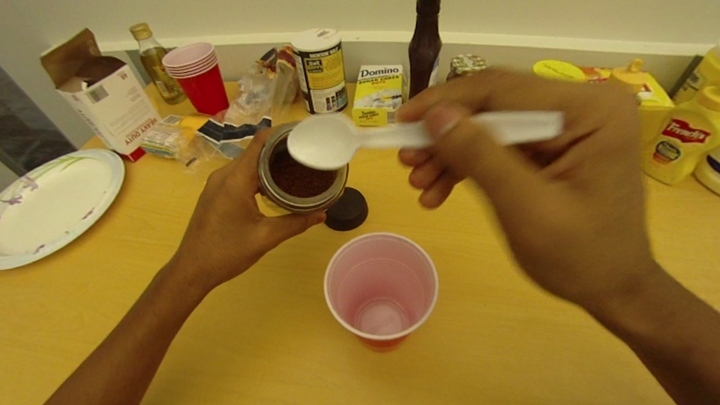hand: (393, 62, 653, 289), (193, 121, 327, 287)
